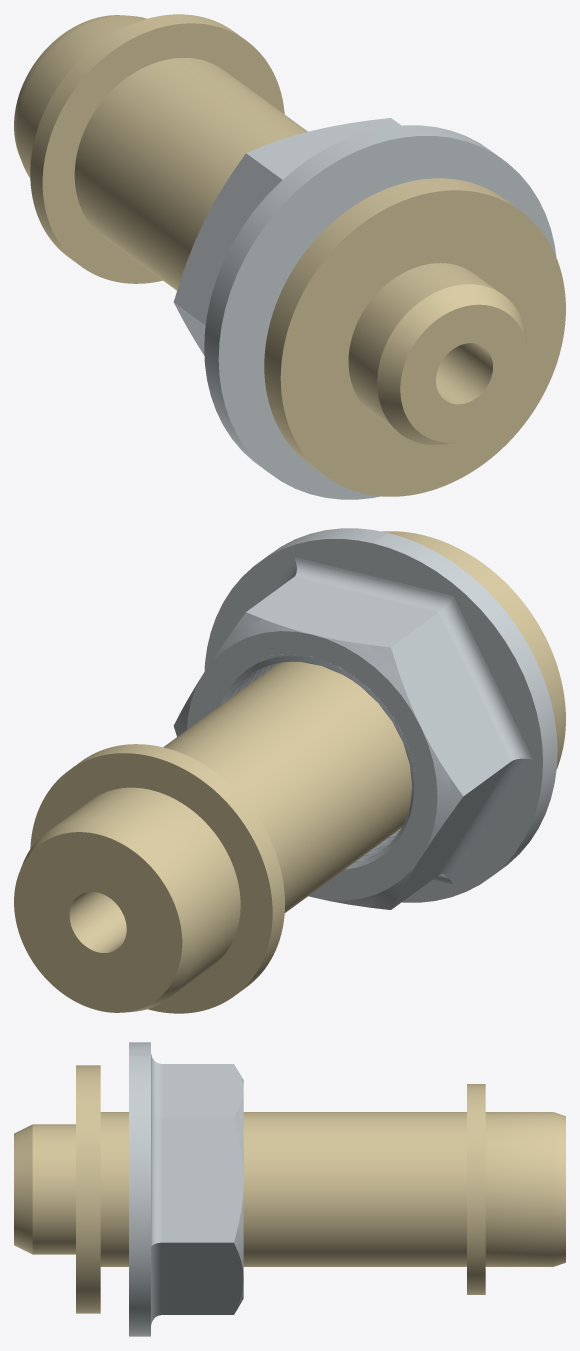
The model's file is QRC.glb.
The picture shows the model from 3 angles, top to bottom: view 1: azimuth 30°, elevation 25°; view 2: azimuth 150°, elevation 25°; view 3: azimuth 270°, elevation 25°; orthographic projection. The views are drawn at different scales.
Visible parts, largest first — view 1: QRC/0002_teaching_open_mating_spigot, QRC/0000_Freek_complete_threaded_coupling_Body4_; view 2: QRC/0002_teaching_open_mating_spigot, QRC/0000_Freek_complete_threaded_coupling_Body4_, QRC/0001_Freek_complete_threaded_coupling_Body6_; view 3: QRC/0002_teaching_open_mating_spigot, QRC/0000_Freek_complete_threaded_coupling_Body4_.
Part boxes in pixels (box(x1,y1,x2,y2)): QRC/0002_teaching_open_mating_spigot: box(14, 14, 565, 496); QRC/0000_Freek_complete_threaded_coupling_Body4_: box(173, 118, 556, 499); QRC/0002_teaching_open_mating_spigot: box(14, 531, 565, 1013); QRC/0000_Freek_complete_threaded_coupling_Body4_: box(173, 528, 557, 909); QRC/0001_Freek_complete_threaded_coupling_Body6_: box(212, 653, 416, 877); QRC/0002_teaching_open_mating_spigot: box(14, 1065, 565, 1313); QRC/0000_Freek_complete_threaded_coupling_Body4_: box(129, 1042, 243, 1336).
Bounding box in the file's own units: 0.0475 × 0.0475 × 0.089.
